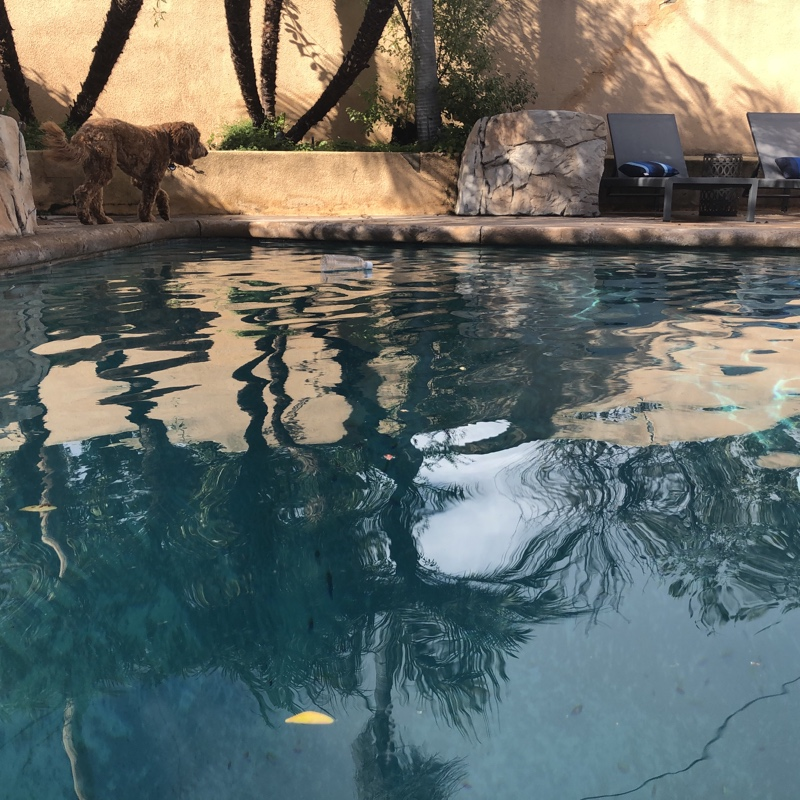Plastic Bottle: (315, 251, 374, 277)
